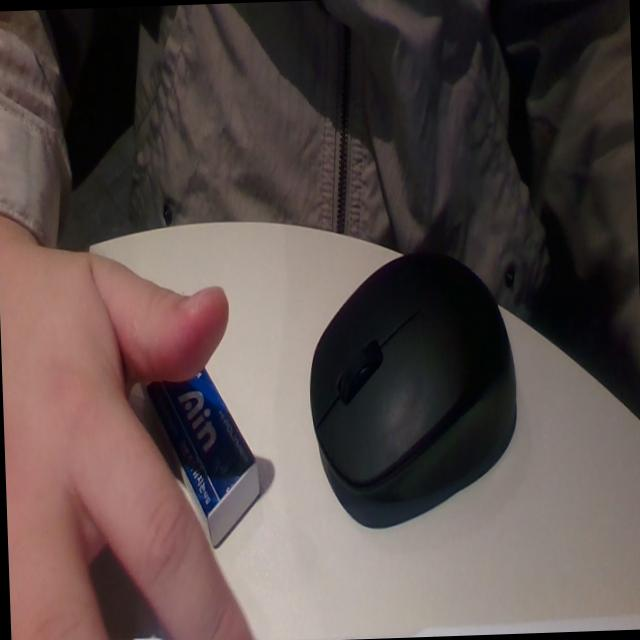eraser: (142, 321, 260, 530)
grab_eraser: (4, 205, 247, 640)
hand: (0, 211, 234, 634)
mouse: (297, 221, 522, 537)
